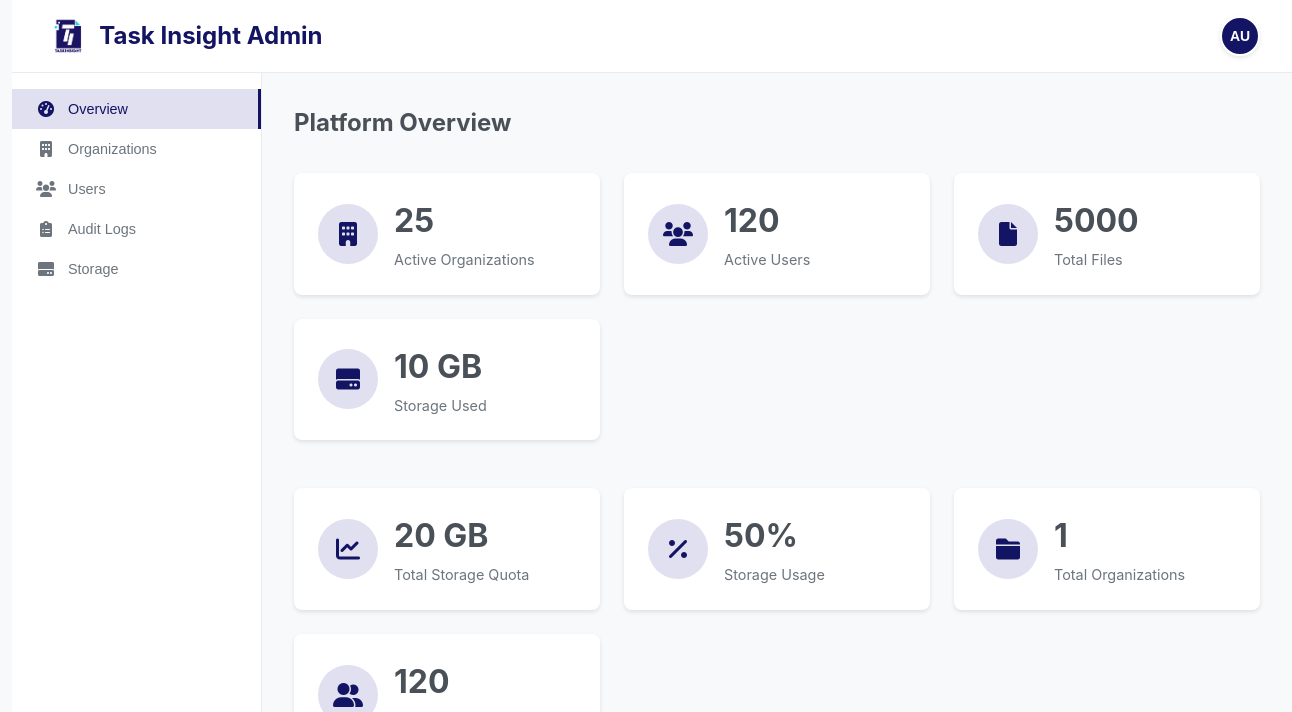
AdminPanel Component › navigates to users view
Expected: the heading "Platform Overview" is shown, 294,108 -> 512,137
Click the button "Users" at x=136, y=189, box 12,169 -> 261,209
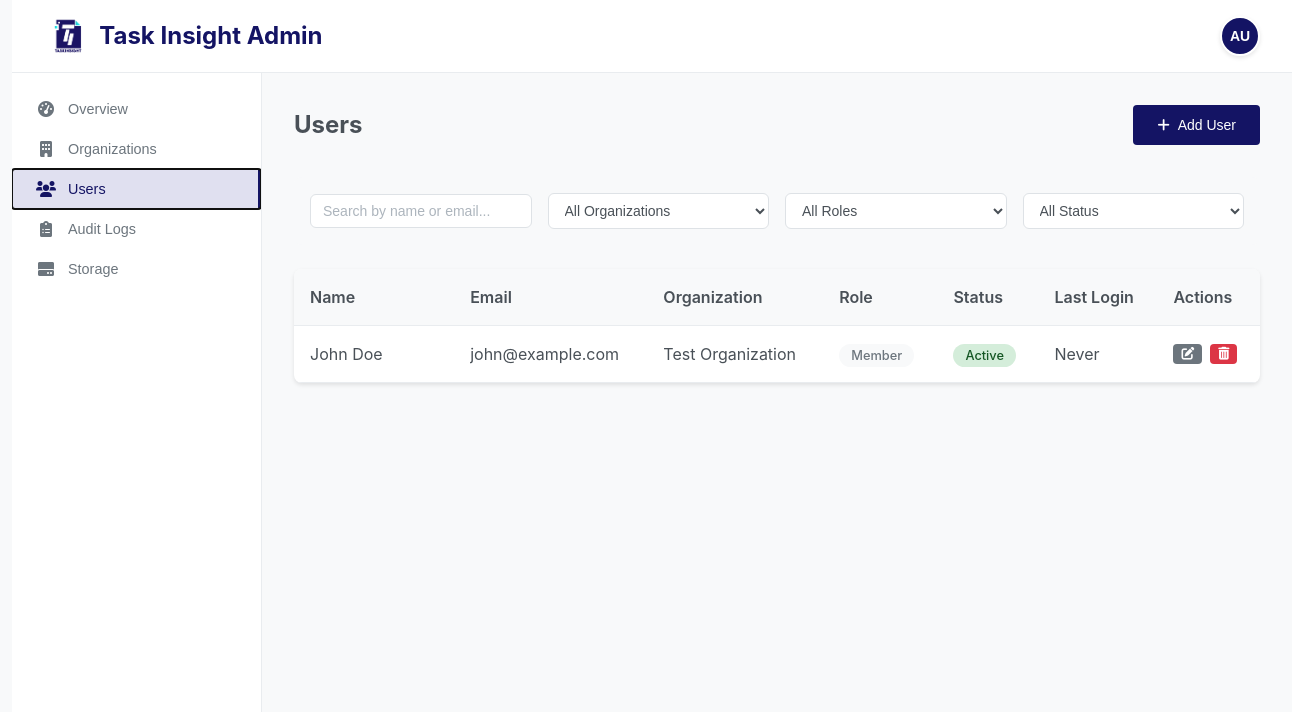
Result: the text "john@example.com" is shown at 454,326 -> 647,382
Result: the text "John Doe" is shown at 294,326 -> 454,382
